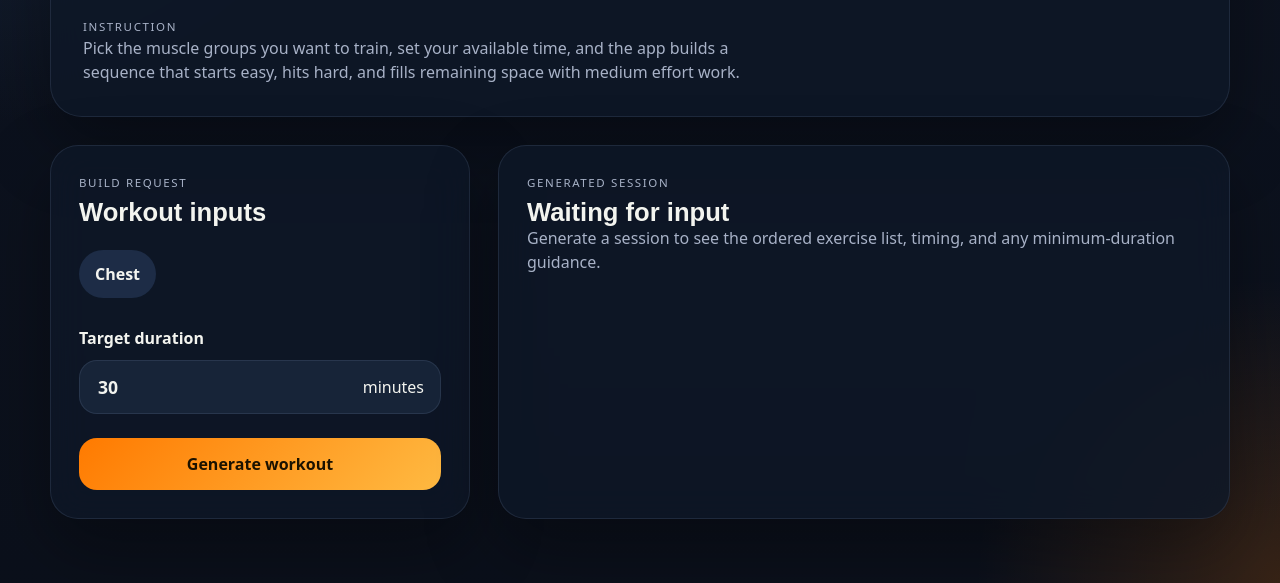
Test: App › shows validation when no muscle groups are selected
(page scrolled)
Check: the button "Chest" is shown, box [79,250,156,298]
Click the button "Generate workout" at point(260, 464), box [79,438,441,490]
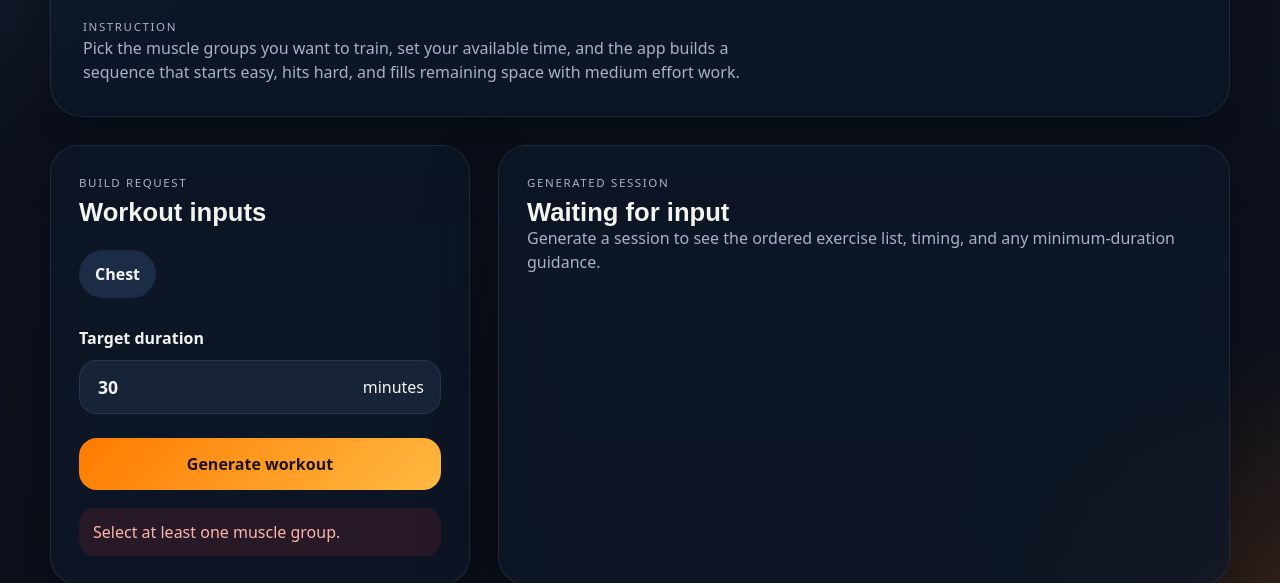
Check: the text "Select at least one muscle group." is shown, box [79,508,441,556]
